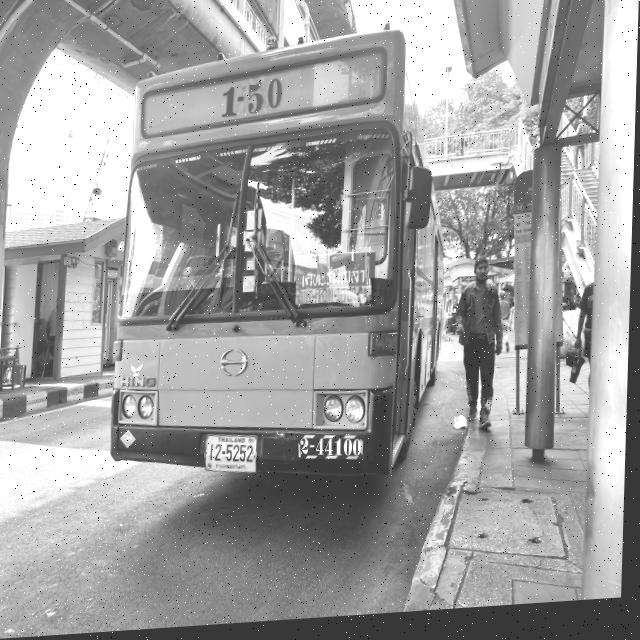BMTA-bus: (110, 31, 450, 499)
Bus-Line-Number: (221, 72, 287, 122)
Destination-Sign-Normal: (296, 258, 375, 313)
